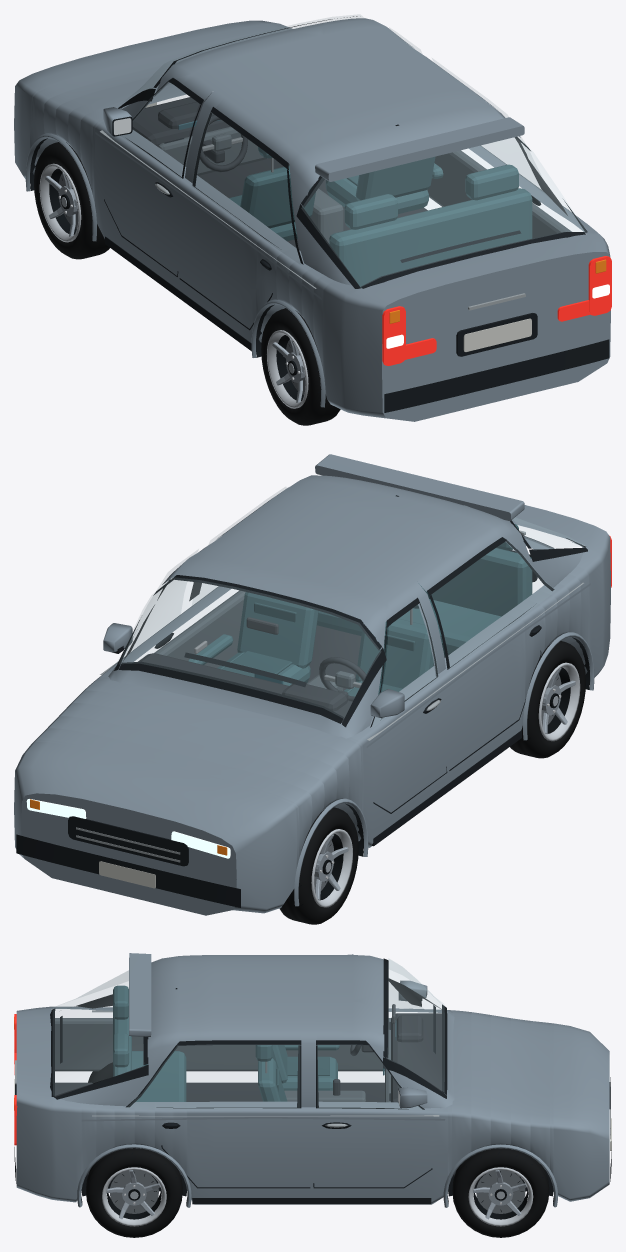
File: hatch.glb
3 renders of one model, top to bottom at view 1: azimuth 30°, elevation 25°; view 2: azimuth 150°, elevation 25°; view 3: azimuth 270°, elevation 25°, orthographic. The views are drawn at different scales.
Visible parts, largest first — view 1: body, glass, cabin_interior, trim, wheel_rl_rubber, wheel_fl_rubber, lights_red, wheel_rl_wheel_metal, wheel_fl_wheel_metal, plate, alloy, wheel_rl_wheel_recess (+1 smaller); view 2: body, glass, cabin_interior, trim, wheel_fl_rubber, wheel_rl_rubber, wheel_fl_wheel_metal, wheel_rl_wheel_metal, lights_white, alloy, plate, wheel_fl_wheel_recess (+1 smaller); view 3: body, glass, cabin_interior, trim, wheel_rr_rubber, wheel_fr_rubber, wheel_fr_wheel_metal, wheel_rr_wheel_metal, alloy, wheel_rr_wheel_recess, wheel_fr_wheel_recess.
Part boxes in pixels (box(x1,y1,x2,y2)): body: box(14, 18, 610, 421); glass: box(121, 15, 586, 286); cabin_interior: box(132, 93, 571, 308); trim: box(30, 16, 609, 412); wheel_rl_rubber: box(261, 308, 340, 425); wheel_fl_rubber: box(34, 142, 109, 259); lights_red: box(382, 256, 611, 365); wheel_rl_wheel_metal: box(267, 330, 308, 408); wheel_fl_wheel_metal: box(39, 163, 81, 242); plate: box(145, 102, 531, 351); alloy: box(100, 130, 525, 310); wheel_rl_wheel_recess: box(276, 311, 321, 421); body: box(14, 454, 610, 915); glass: box(116, 487, 585, 726); cabin_interior: box(123, 524, 562, 722); trim: box(16, 495, 589, 907); wheel_fl_rubber: box(279, 807, 358, 924); wheel_rl_rubber: box(510, 641, 585, 758); wheel_fl_wheel_metal: box(311, 829, 352, 907); wheel_rl_wheel_metal: box(538, 662, 580, 741); lights_white: box(26, 799, 230, 858); alloy: box(76, 530, 583, 862); plate: box(99, 861, 155, 888); wheel_fl_wheel_recess: box(298, 810, 343, 923); body: box(16, 953, 609, 1207); glass: box(53, 958, 444, 1109); cabin_interior: box(54, 978, 455, 1176); trim: box(14, 958, 611, 1205); wheel_rr_rubber: box(86, 1148, 182, 1237); wheel_fr_rubber: box(452, 1148, 549, 1237); wheel_fr_wheel_metal: box(468, 1167, 533, 1226); wheel_rr_wheel_metal: box(102, 1167, 166, 1226); alloy: box(15, 1010, 610, 1134); wheel_rr_wheel_recess: box(86, 1150, 182, 1233); wheel_fr_wheel_recess: box(454, 1150, 547, 1219).
Size of the model in its own units: 1.86 by 1.5 by 4.08.
